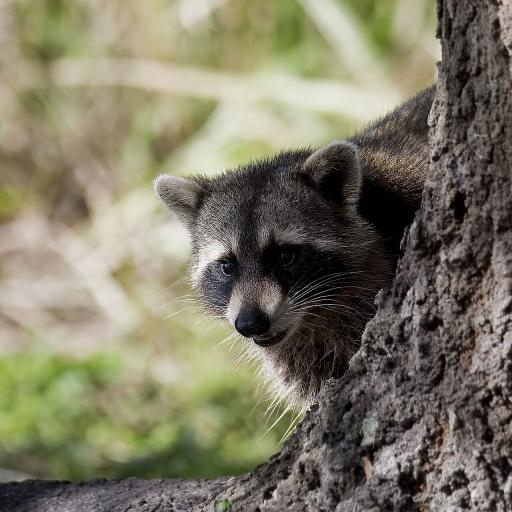raccoon: (155, 86, 433, 406)
